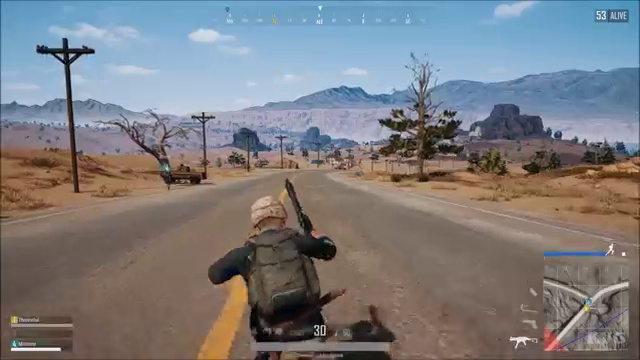Player: (196, 180, 366, 319)
